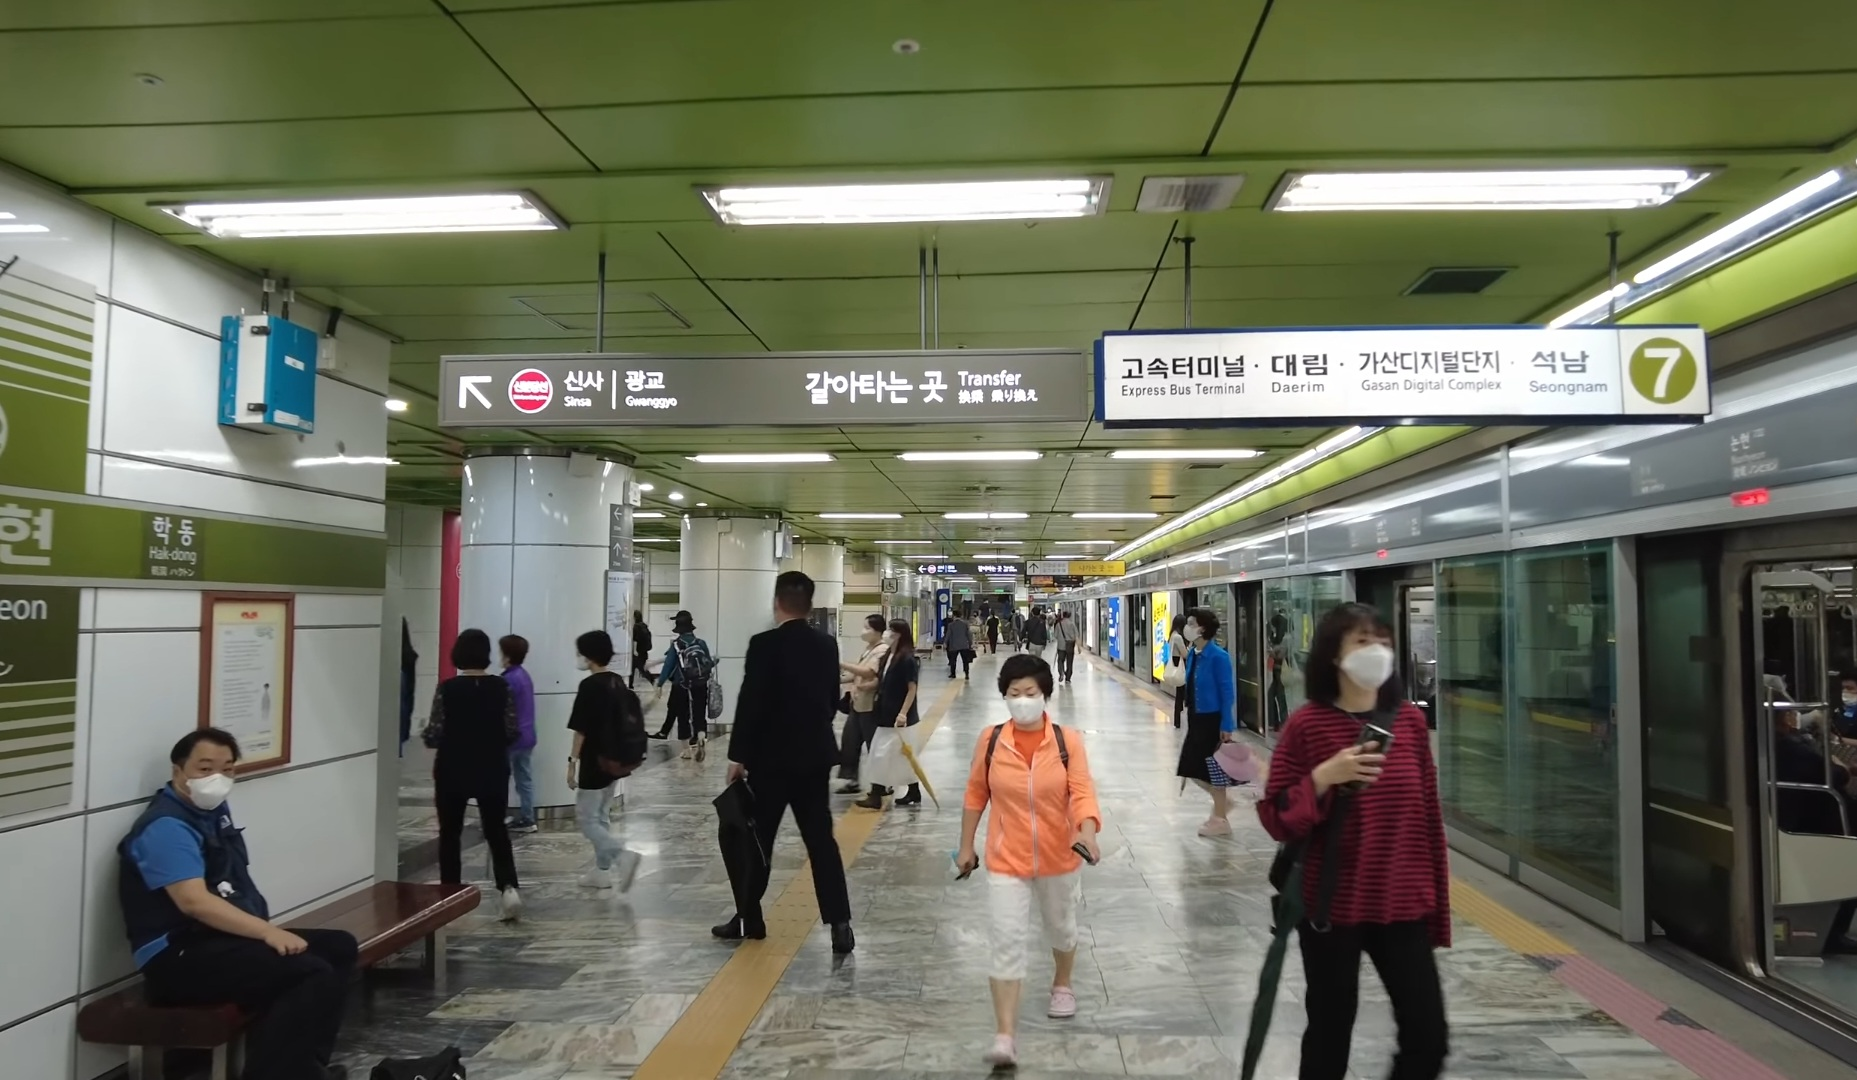signBoard: (1097, 303, 1719, 433), (423, 334, 1096, 435)
